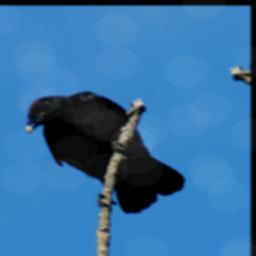Crow: (13, 65, 194, 237)
